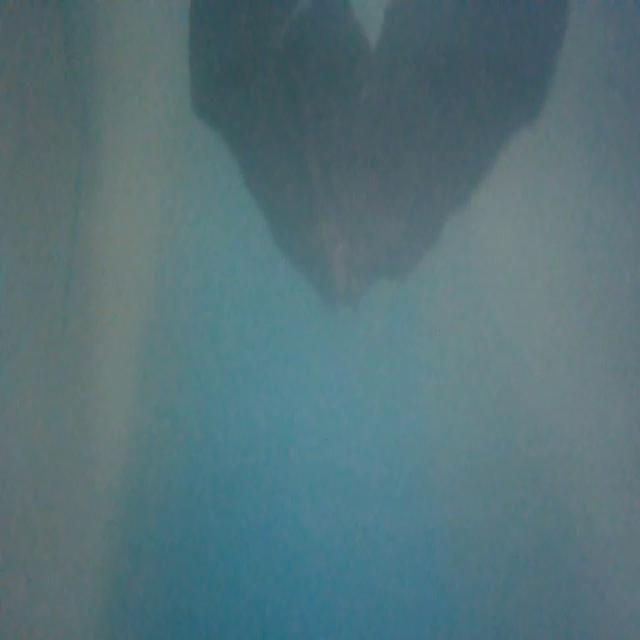plastic bags: (199, 0, 576, 311)
